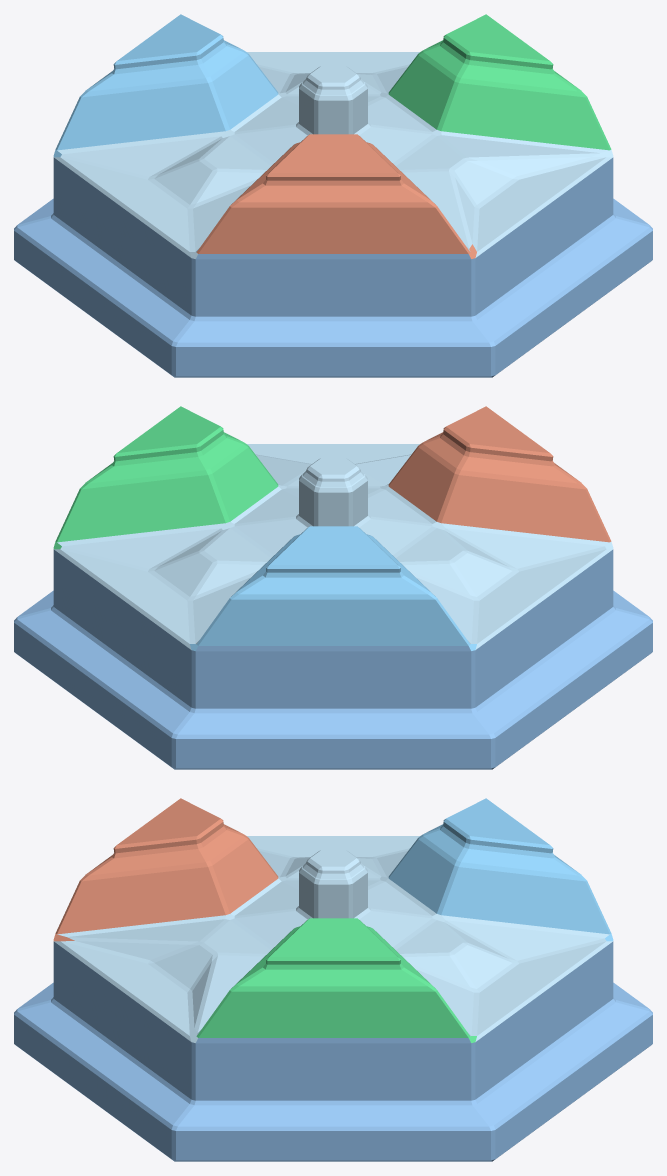
Rendered from Extra 3.fbx.
3 renders of one model, top to bottom at view 1: azimuth 30°, elevation 25°; view 2: azimuth 150°, elevation 25°; view 3: azimuth 270°, elevation 25°, orthographic.
Visible parts, largest first — view 1: Extra 3; view 2: Extra 3; view 3: Extra 3.
Boxes of the visible parts, left/top/right/bottom form: Extra 3: left=14, top=14, right=652, bottom=377; Extra 3: left=14, top=406, right=652, bottom=769; Extra 3: left=14, top=798, right=652, bottom=1161.
Size of the model in its own units: 198 by 73.73 by 227.
